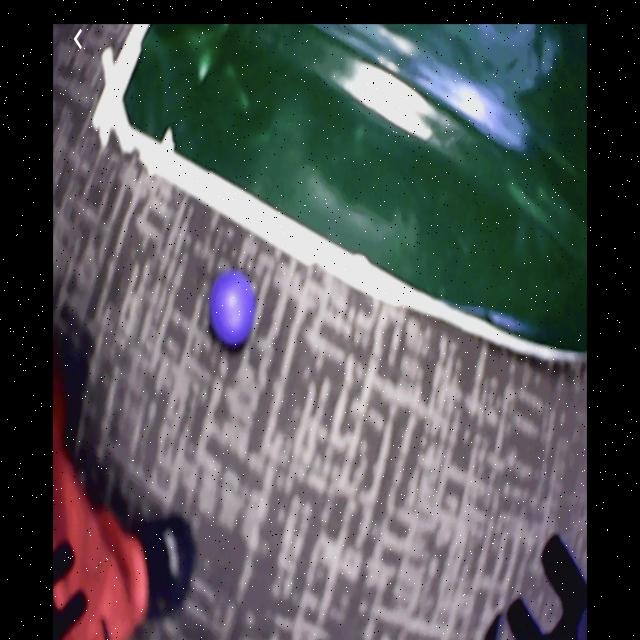ball: (210, 272, 252, 345)
